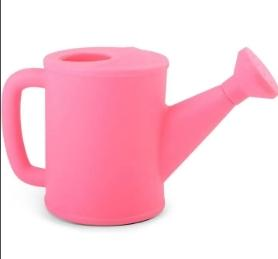ARROSOIR: (0, 42, 278, 234)
